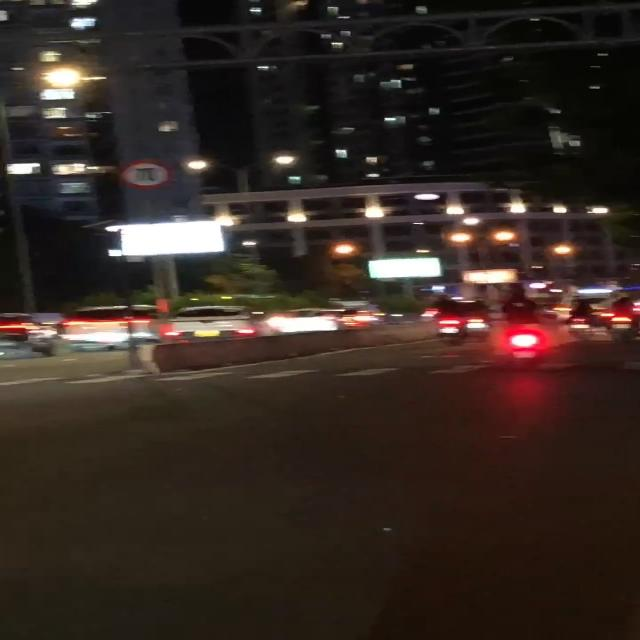Bien bao toc do toi da cho phep: (119, 156, 181, 194)
